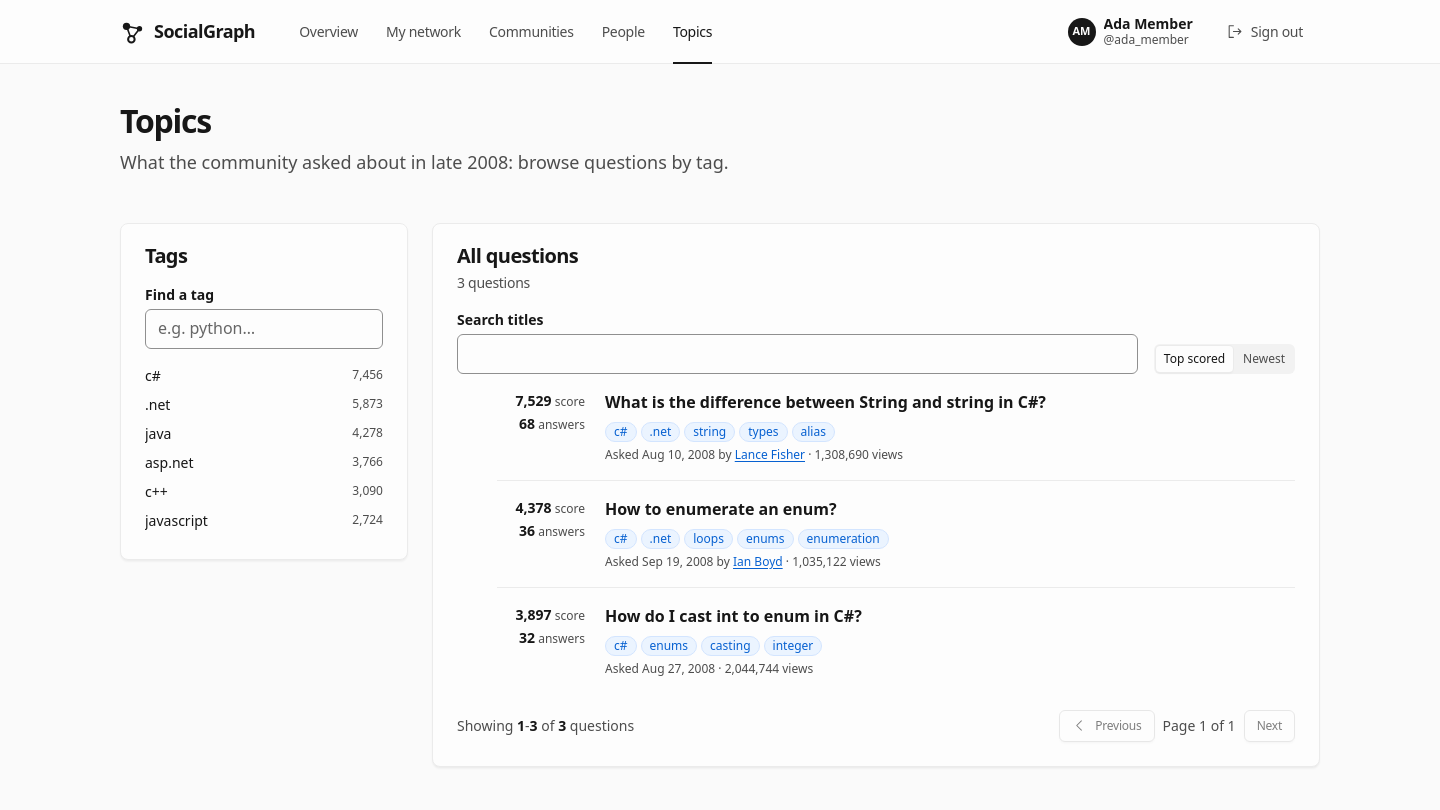
it: Topics › finds tags by prefix after a pause in typing
Expected: the heading "Topics" is shown, [120, 99, 211, 142]
Expected: the link named "c# 7,456 questions" is shown, [137, 361, 391, 390]
Type "ja" into the search field labelled "Find a tag" at (264, 329), box [145, 309, 383, 349]
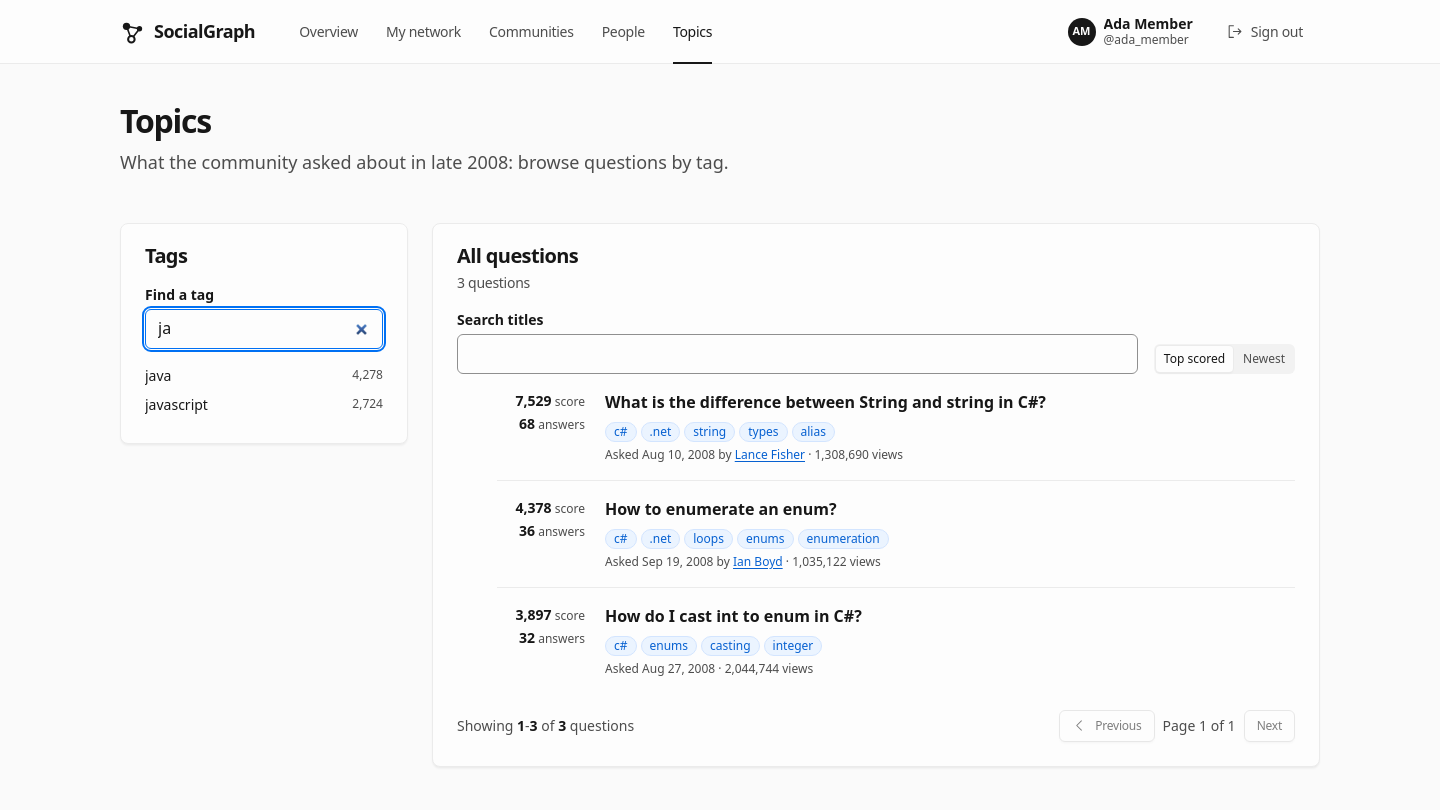
Expected: the links read "java 4,278 questions", "javascript 2,724 questions", in this order, [137, 361, 391, 390]; [137, 390, 391, 419]
Type "zz" into the search field labelled "Find a tag" at (264, 329), box [145, 309, 383, 349]
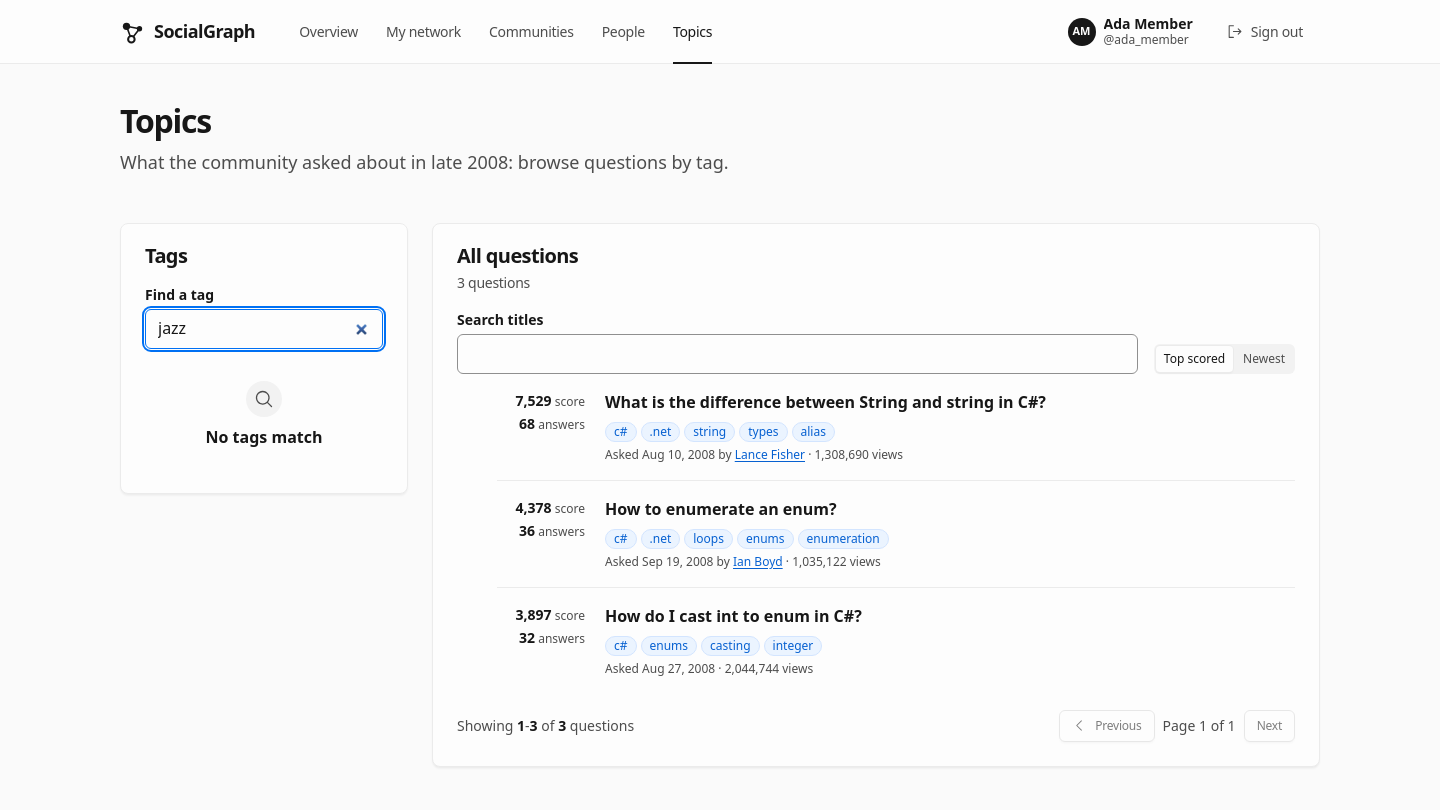
Expected: the text "No tags match" is shown, [206, 425, 322, 449]
